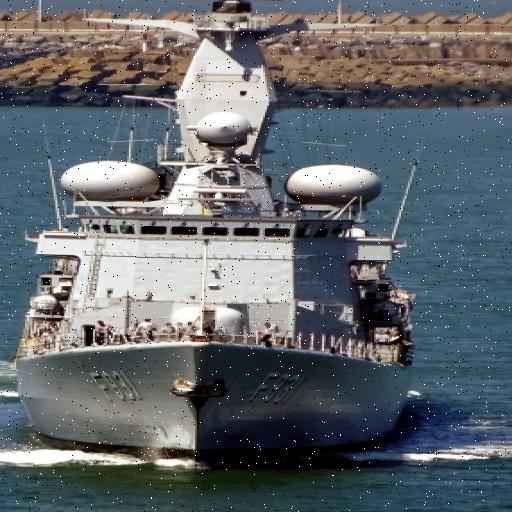Fragata: (10, 1, 421, 466)
